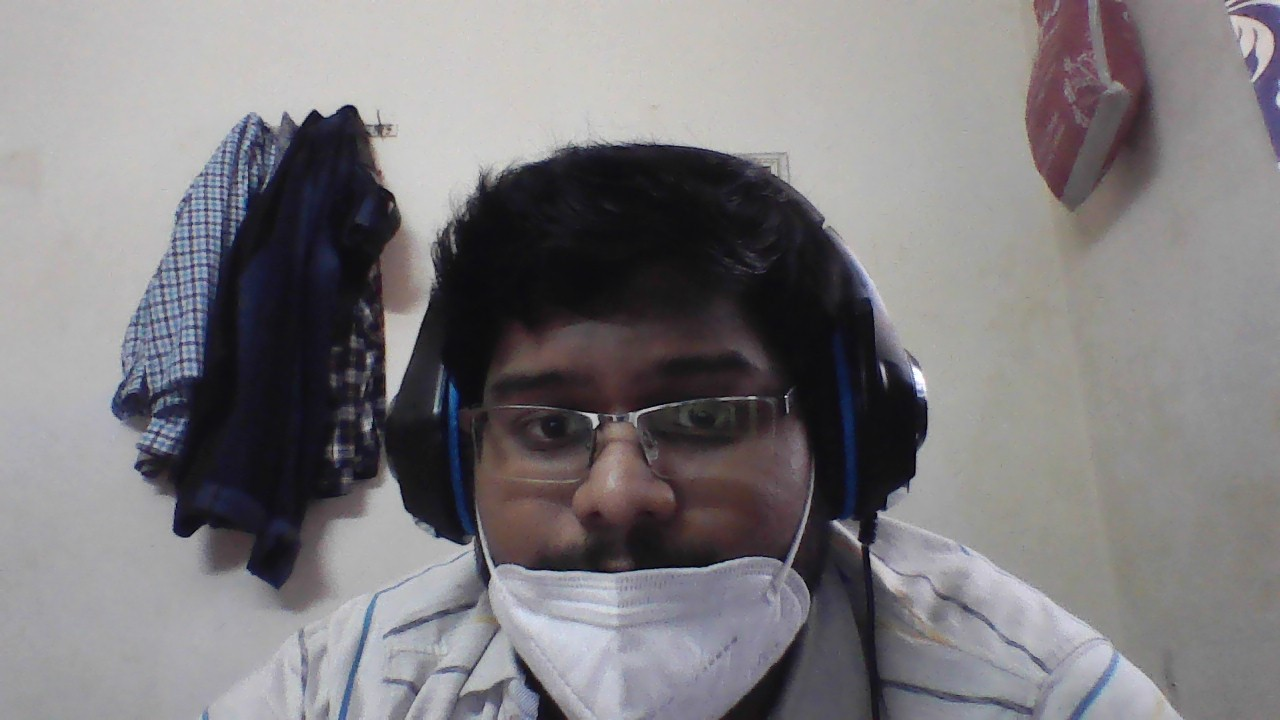NoMask: (468, 467, 846, 656)
